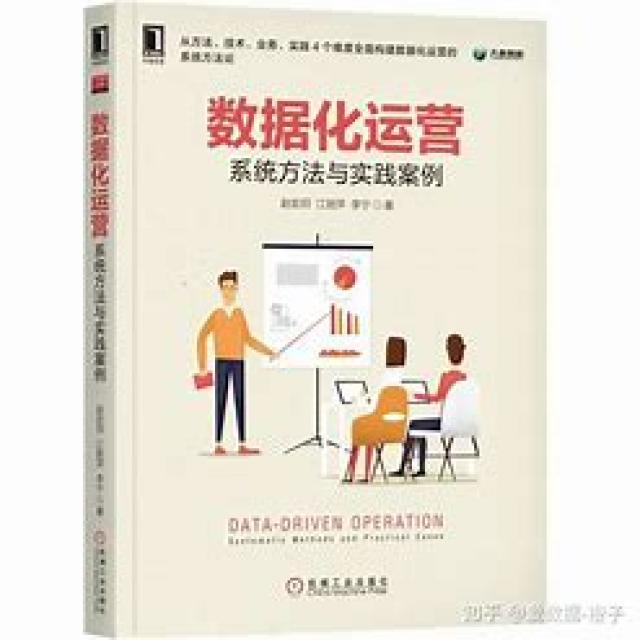pen: (72, 0, 586, 628)
